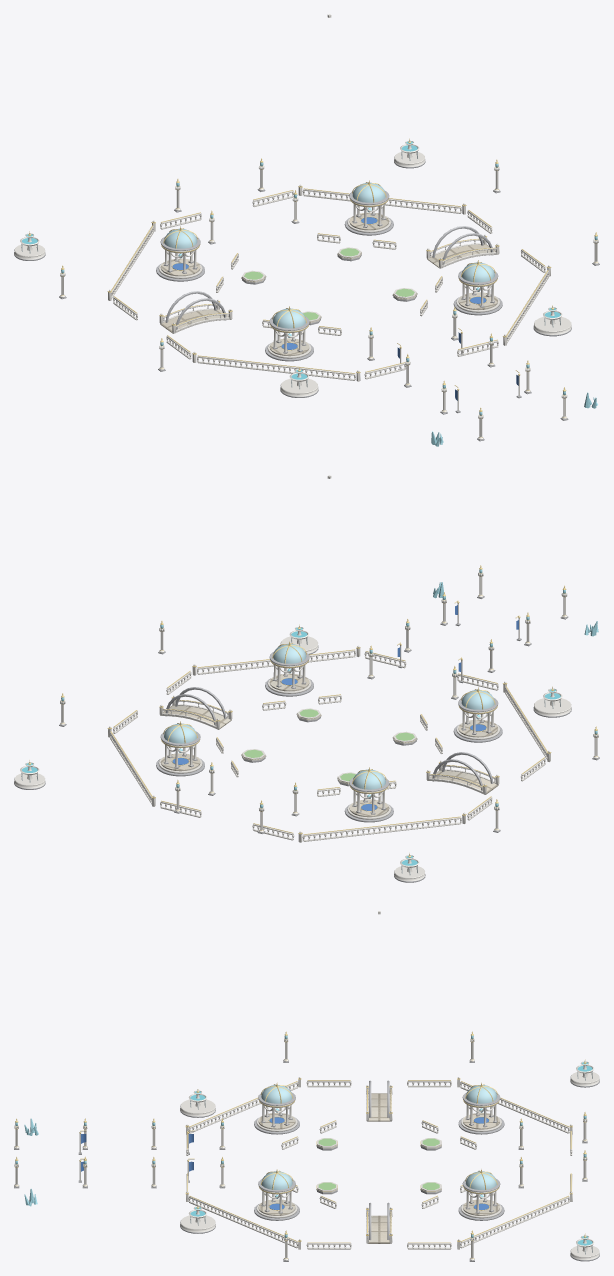
Rendered from LV_PRACA.fbx.
3 views of the same model, one above another, from view 1: azimuth 30°, elevation 25°; view 2: azimuth 150°, elevation 25°; view 3: azimuth 270°, elevation 25° (orthographic). The views are drawn at different scales.
Visible parts, largest first — view 1: MARB__praca, TRIM__praca, GOLD__praca, TILE2__praca, GLASS__praca, NEON__praca; view 2: MARB__praca, TRIM__praca, GOLD__praca, TILE2__praca, GLASS__praca, NEON__praca; view 3: MARB__praca, TRIM__praca, GOLD__praca, TILE2__praca, GLASS__praca, NEON__praca, BLUE__praca, GRASS__praca.
Boxes of the visible parts, x1,y1,x2,y2 form: MARB__praca: (14,140,598,439); TRIM__praca: (14,159,599,441); GOLD__praca: (28,138,597,437); TILE2__praca: (160,212,497,356); GLASS__praca: (164,182,494,328); NEON__praca: (61,162,597,446); MARB__praca: (14,572,598,881); TRIM__praca: (14,596,599,882); GOLD__praca: (28,565,597,857); TILE2__praca: (160,673,498,817); GLASS__praca: (164,643,494,789); NEON__praca: (61,569,598,808); MARB__praca: (14,1038,599,1260); TRIM__praca: (14,1060,599,1261); GOLD__praca: (15,1031,586,1258); TILE2__praca: (258,1093,499,1243); GLASS__praca: (261,1085,497,1189); NEON__praca: (15,1035,586,1237); BLUE__praca: (81,1117,488,1209); GRASS__praca: (318,1138,439,1189).
Bounding box in the file's own units: 194 × 116 × 239.
Materials: 10 (1 with a texture image).
